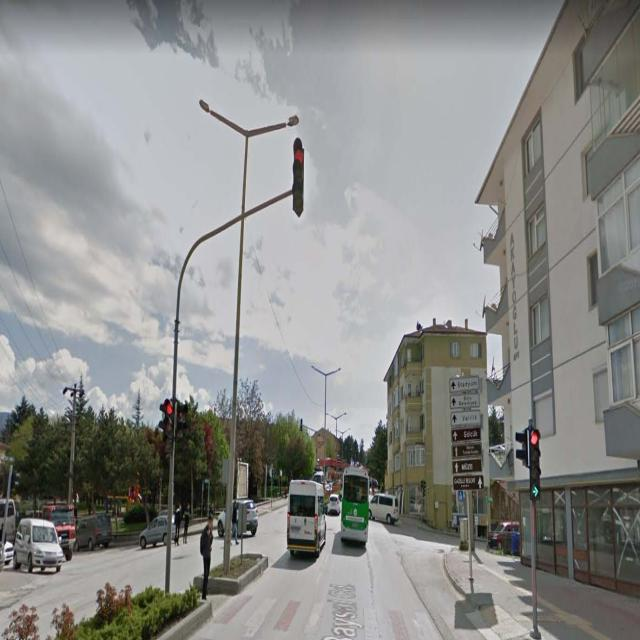kirmizi: (294, 142, 304, 208), (529, 430, 540, 481), (164, 399, 172, 448)
